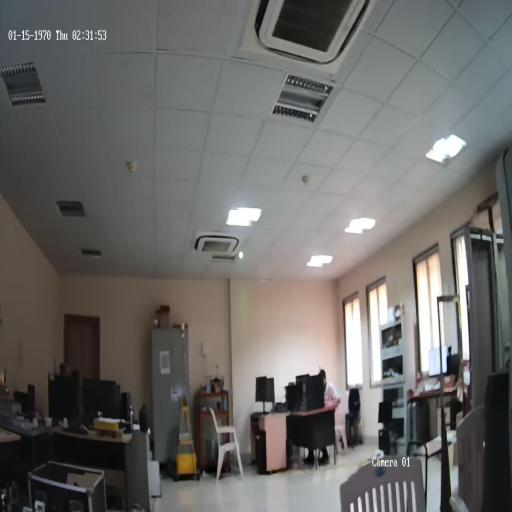laser: (238, 248, 244, 261)
